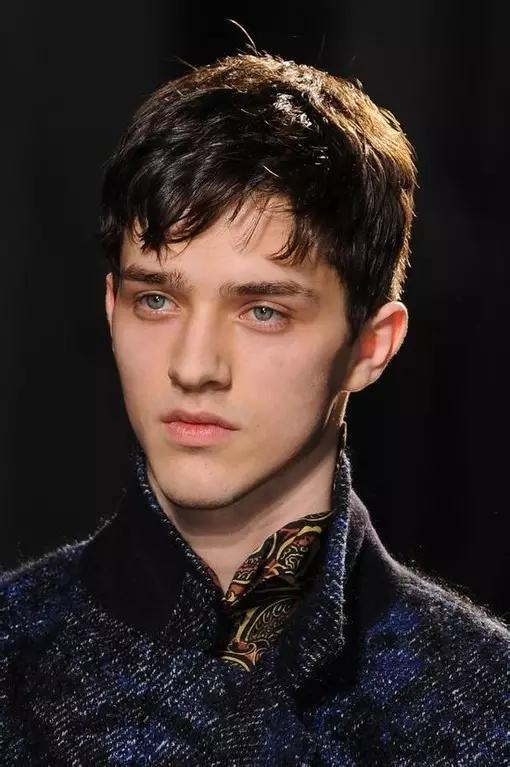person: (119, 49, 450, 670)
